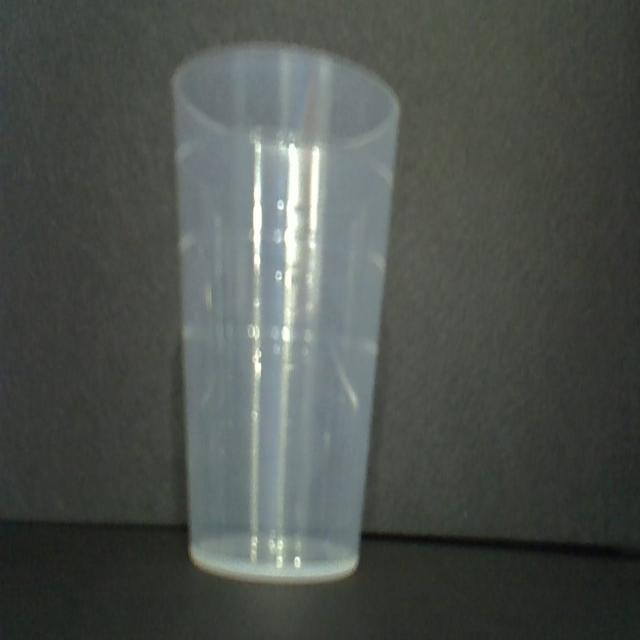cup: (166, 37, 403, 590)
